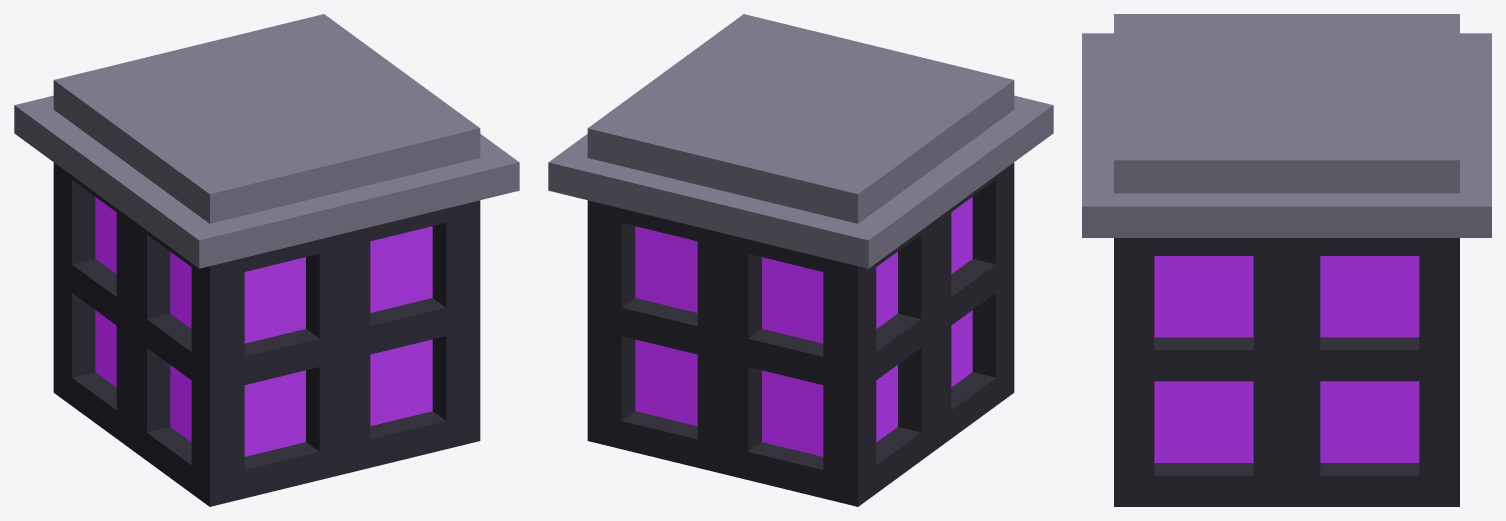
File: TopFlat.fbx
3 views of the same model, side by side, from view 1: azimuth 30°, elevation 25°; view 2: azimuth 150°, elevation 25°; view 3: azimuth 270°, elevation 25° (orthographic). The views are drawn at different scales.
Parts seen in each view (by area): view 1: TopFlat; view 2: TopFlat; view 3: TopFlat.
Part boxes in pixels (x1,y1,x2,y2): TopFlat: (14, 14, 519, 506); TopFlat: (548, 14, 1053, 506); TopFlat: (1082, 14, 1491, 506).
Size of the model in its own units: 237 by 221 by 237.
